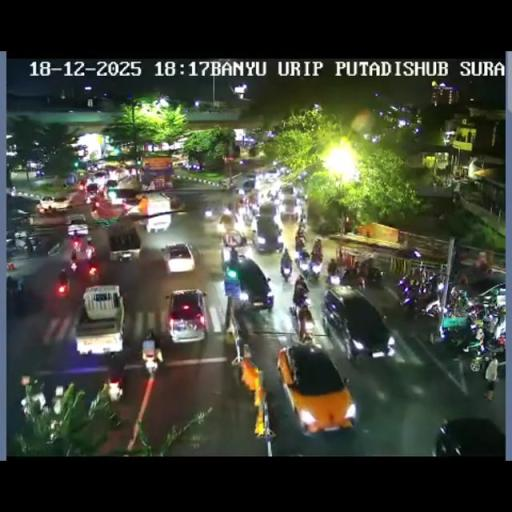Car: (277, 342, 354, 436), (321, 287, 394, 359), (74, 286, 124, 354), (224, 254, 274, 311), (434, 416, 506, 455), (165, 288, 208, 342), (105, 226, 141, 264), (252, 211, 283, 253), (138, 192, 172, 230), (161, 242, 194, 274), (476, 282, 505, 312), (279, 192, 300, 223), (38, 195, 72, 213), (395, 247, 424, 261), (64, 213, 87, 230), (261, 167, 281, 183), (240, 176, 256, 194), (92, 170, 109, 186), (86, 183, 98, 196), (104, 180, 118, 190)
Motorcycle: (398, 276, 444, 318), (438, 315, 478, 355), (290, 275, 313, 338), (477, 315, 505, 357), (448, 284, 471, 309), (468, 346, 487, 372), (106, 375, 124, 402), (217, 211, 235, 238), (142, 350, 160, 376), (465, 302, 486, 324), (232, 335, 245, 370), (306, 254, 322, 280), (55, 270, 70, 296), (203, 201, 221, 221), (325, 265, 342, 286), (228, 195, 241, 220), (24, 236, 42, 254), (296, 244, 310, 266), (359, 257, 374, 277), (280, 256, 292, 280), (6, 275, 21, 294), (242, 206, 255, 226), (6, 237, 19, 256), (88, 260, 99, 282), (311, 238, 322, 258), (70, 234, 82, 251), (296, 229, 306, 248), (270, 187, 282, 202), (226, 184, 238, 198), (356, 274, 366, 290), (237, 230, 246, 246), (84, 246, 94, 258), (70, 258, 78, 272), (298, 211, 306, 225), (90, 198, 98, 212), (237, 250, 246, 262), (70, 248, 77, 261)
